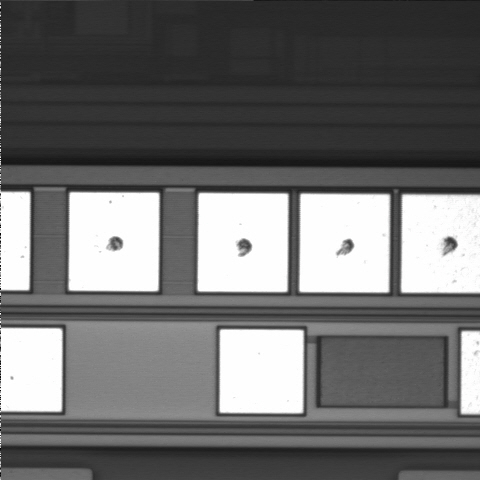pad: (69, 192, 159, 291), (198, 193, 288, 292), (300, 194, 390, 292), (220, 330, 303, 413)
